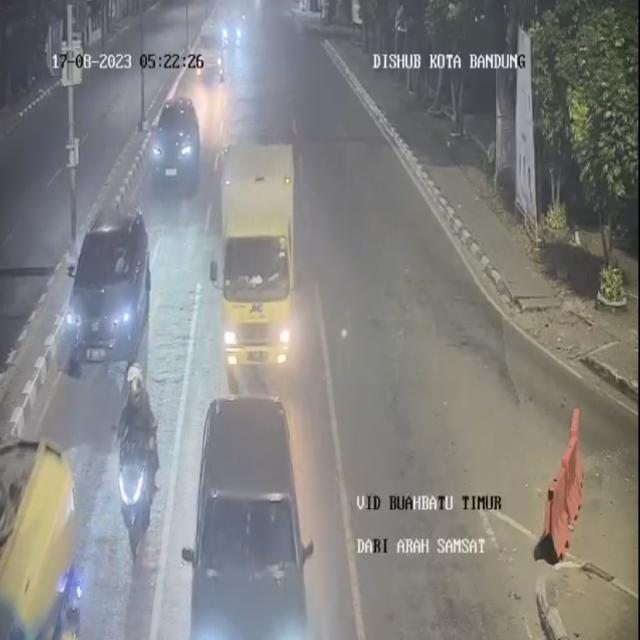cars: (196, 387, 317, 640), (62, 204, 152, 368), (155, 93, 200, 195)
motorcycle: (116, 363, 166, 564)
truck: (213, 140, 300, 397), (0, 439, 88, 640)
